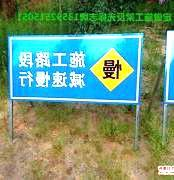sign: (9, 36, 137, 101)
